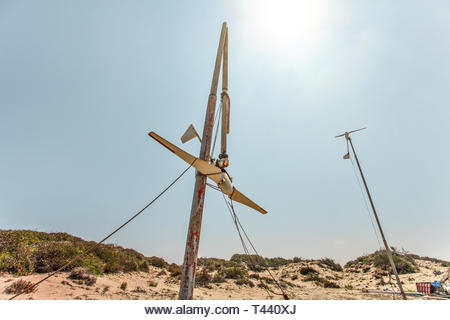faulty: (149, 20, 274, 222)
